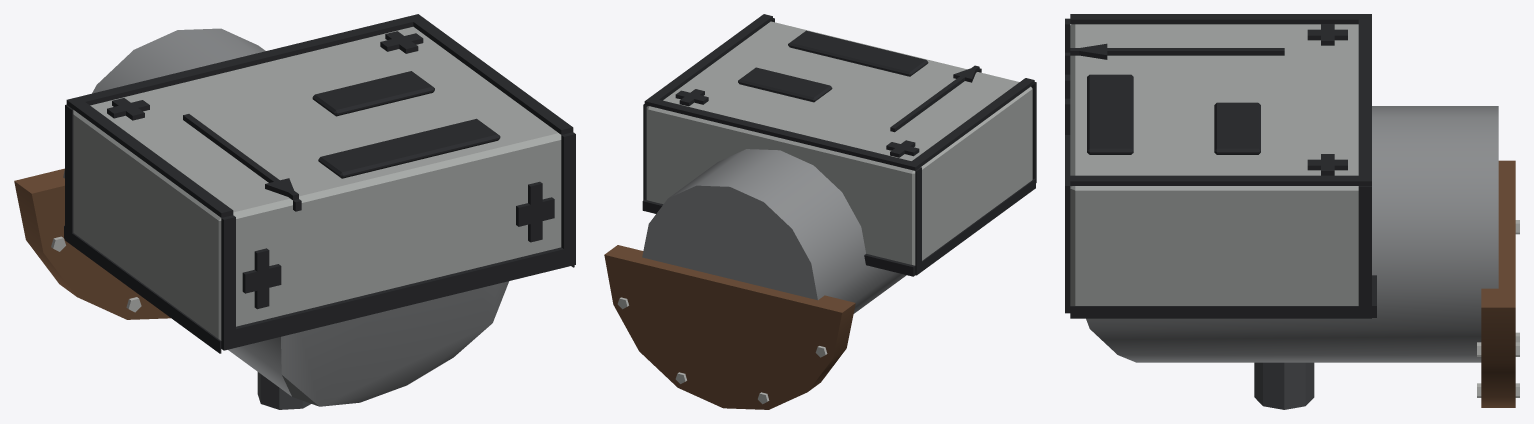
The model's file is top-up-valve-south.glb.
3 views of the same model, side by side, from view 1: azimuth 30°, elevation 25°; view 2: azimuth 150°, elevation 25°; view 3: azimuth 270°, elevation 25° (orthographic). The views are drawn at different scales.
Visible parts, largest first — view 1: body; view 2: body; view 3: body.
Part boxes in pixels (bbox=[...]): body: bbox=[14, 14, 575, 409]; body: bbox=[604, 14, 1036, 409]; body: bbox=[1065, 14, 1519, 409].
Size of the model in its own units: 0.932 by 0.776 by 1.06.
